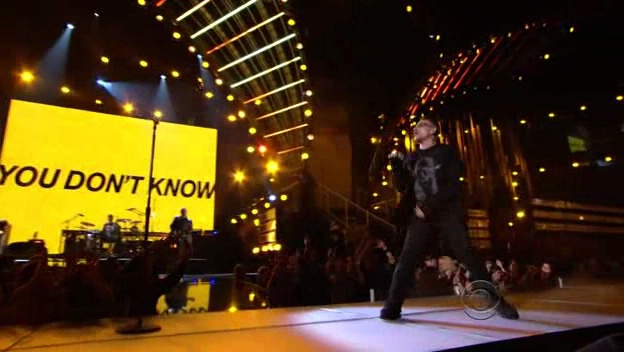person: (396, 120, 461, 227), (393, 120, 458, 227), (399, 120, 464, 227), (396, 117, 461, 224), (396, 123, 461, 230)
target_negative: (318, 2, 422, 108), (111, 167, 323, 211), (7, 88, 32, 308), (475, 186, 483, 286), (590, 336, 618, 345), (527, 96, 528, 281)
